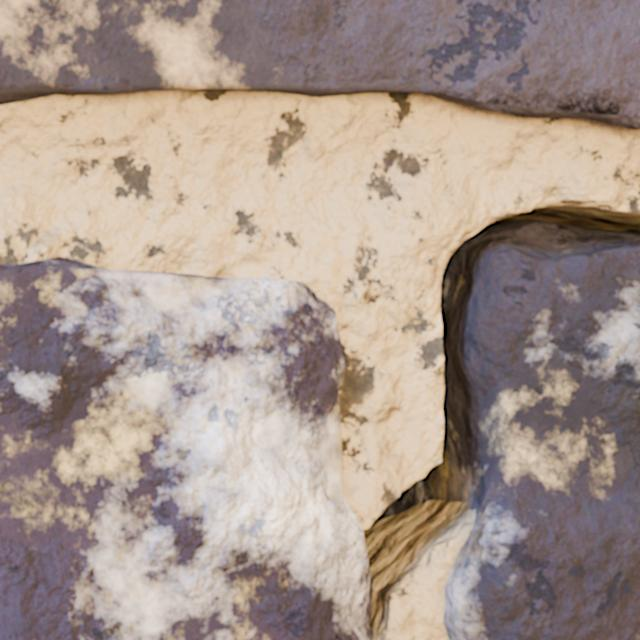crack: (0, 196, 639, 639), (0, 0, 639, 129)
